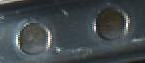joints: (89, 3, 133, 43), (14, 18, 53, 57)
